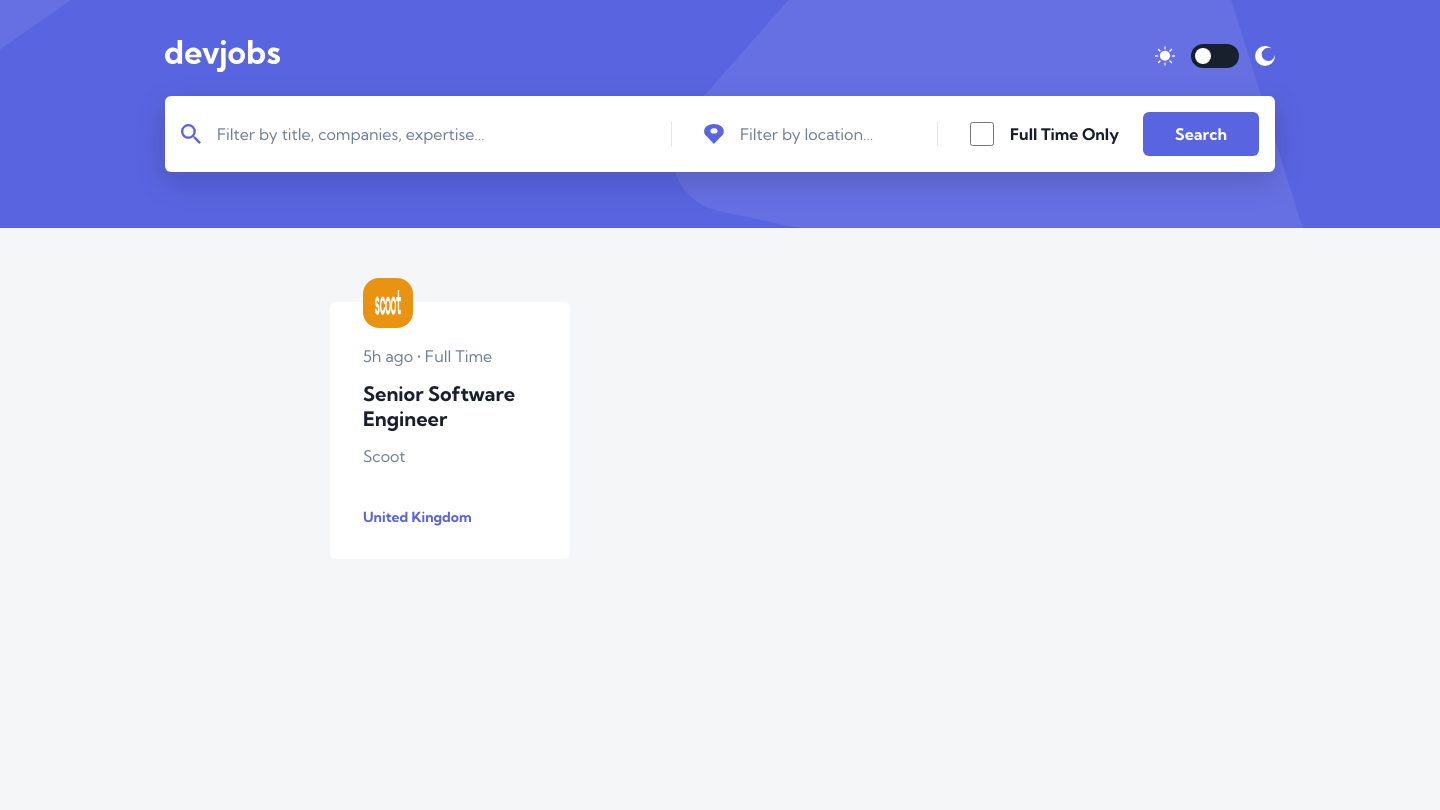
Scenario: App routing › navigates from the job list to the matching job detail page
Click the link with aria-label "View details for Senior Software Engineer at Scoot" at {"x": 450, "y": 430}, box [330,302,570,559]
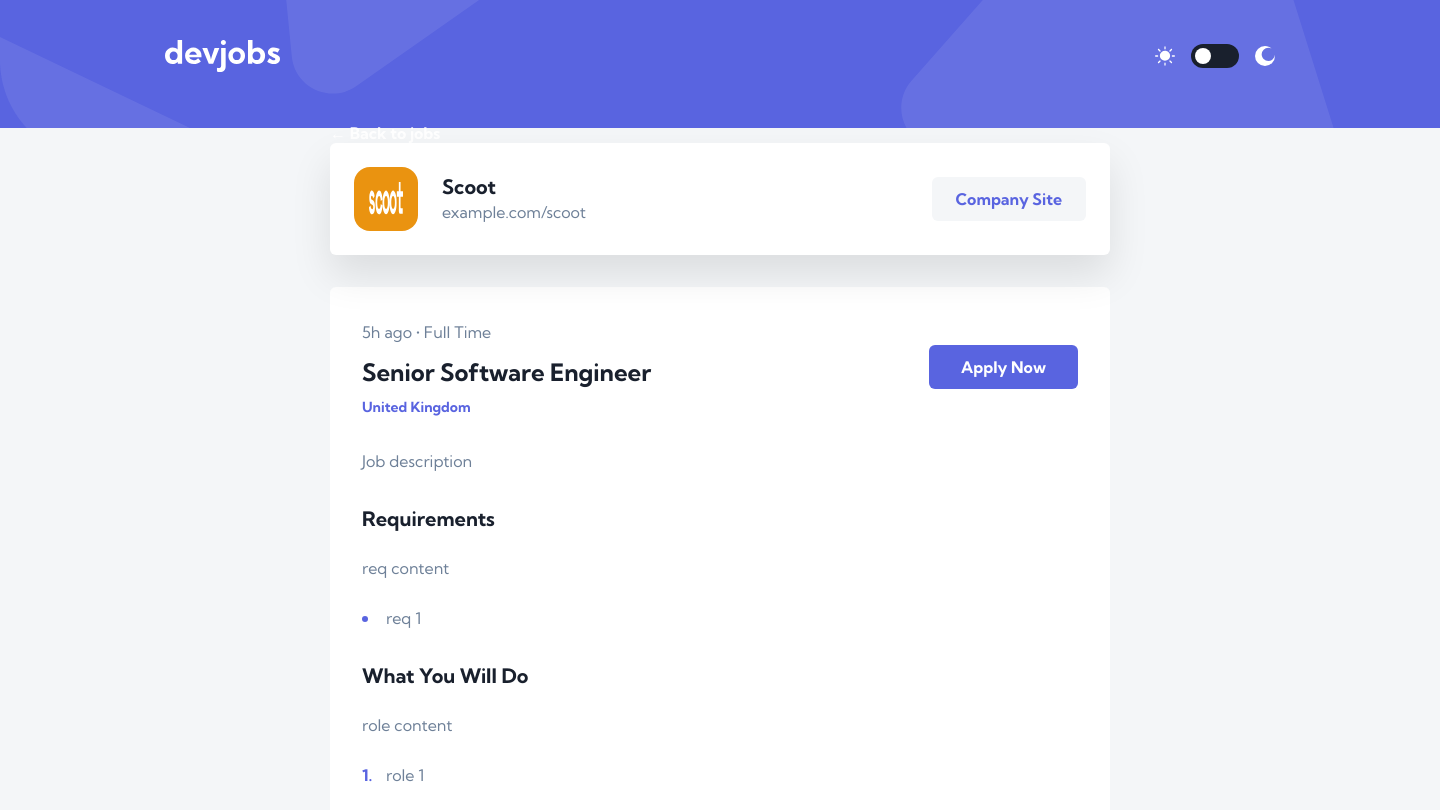
Expected: the heading "Senior Software Engineer" is shown, [362,357,651,387]
